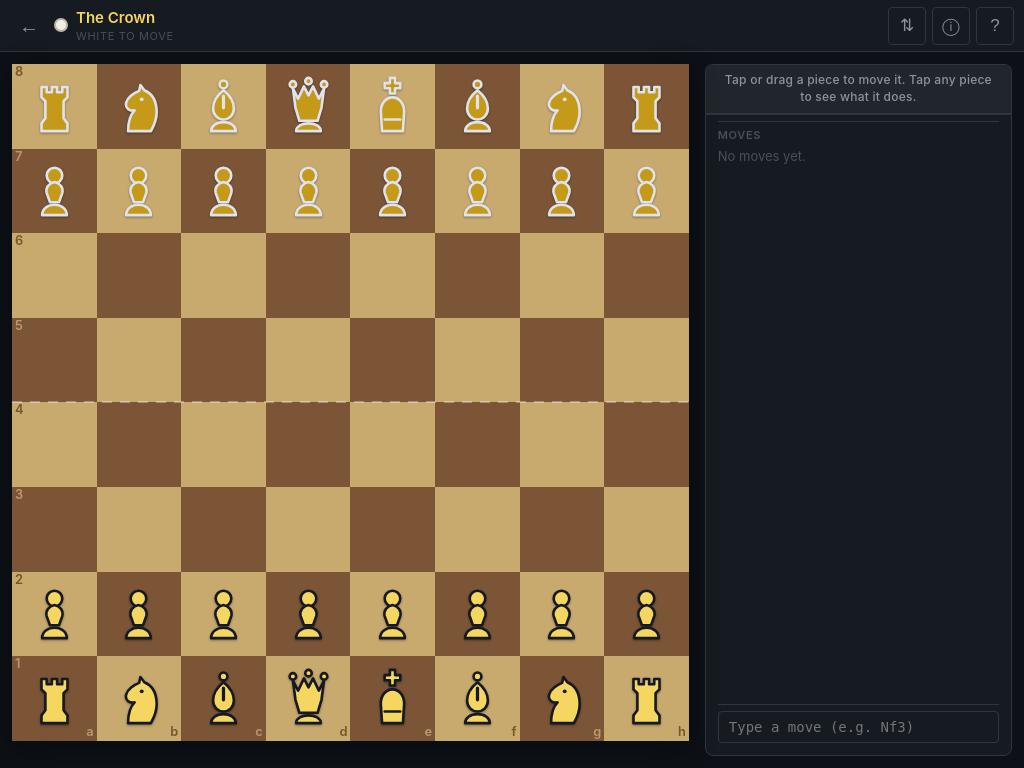
Test case: tap-to-inspect › shows the info bar for an own piece with no legal moves
The image size is (1024, 768).
// White rook on a1 (sq 0) has no legal moves at the start
Click the cell "1 a".
click(54, 698)  # box left=12, top=656, right=97, bottom=741
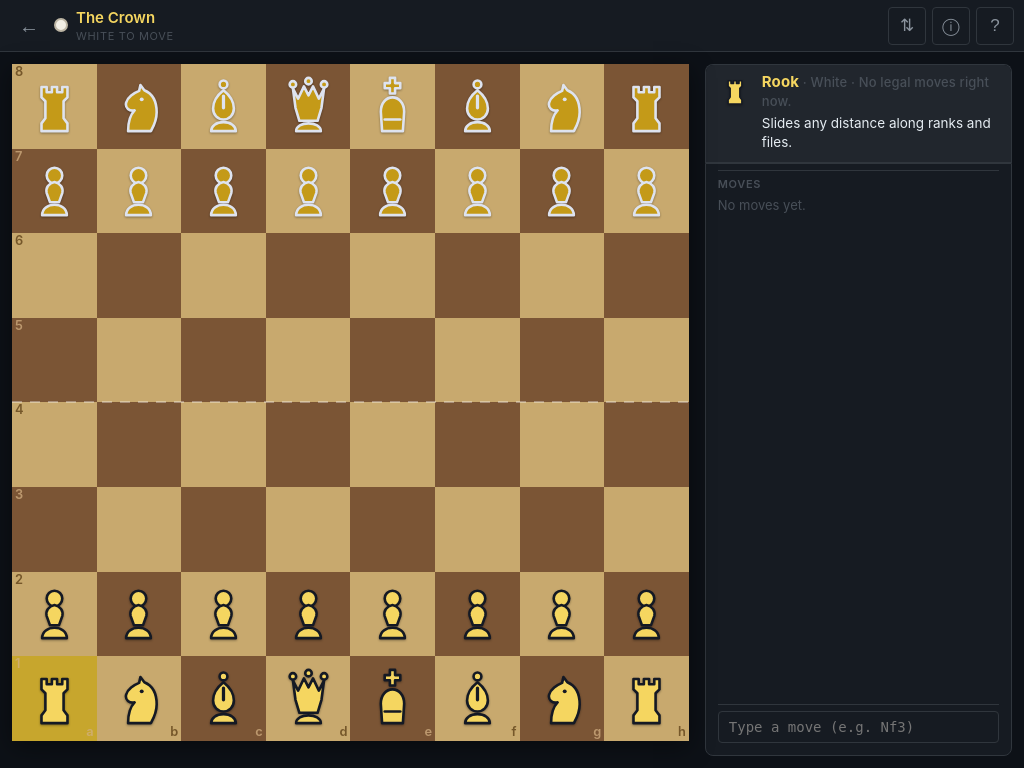
Now the element with test id "piece-info" is shown, box left=706, top=65, right=1011, bottom=163
Now the element with test id "piece-info" shows "Rook", box left=762, top=72, right=799, bottom=91
Now the element with test id "piece-info" shows "No legal moves", box left=762, top=74, right=989, bottom=109
